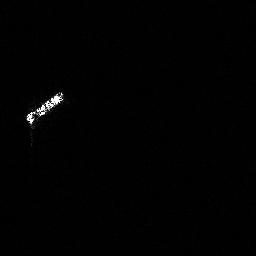ship: (26, 89, 66, 130)
